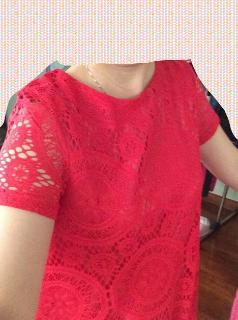short sleeve dress: (0, 61, 220, 319)
